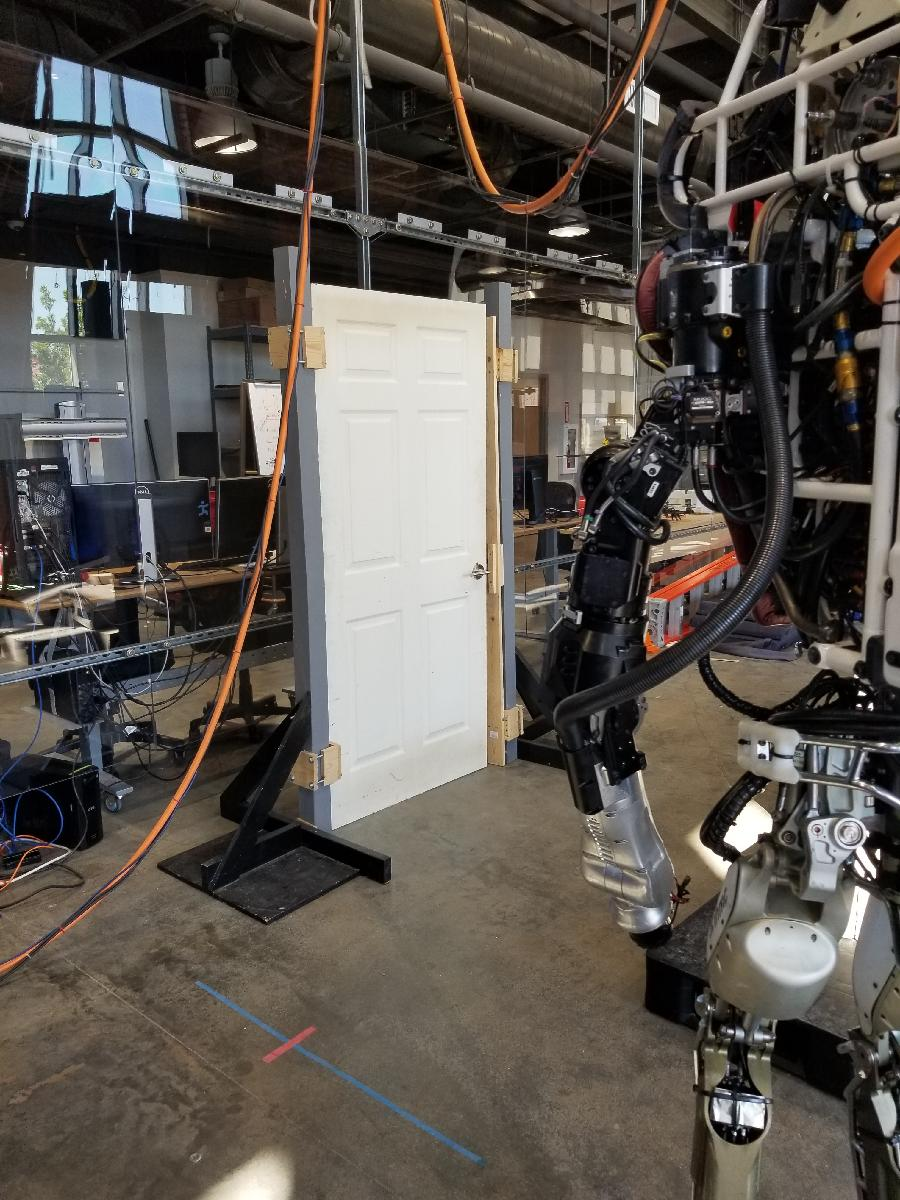door: (298, 278, 493, 833)
doorHandle: (467, 561, 495, 584)
